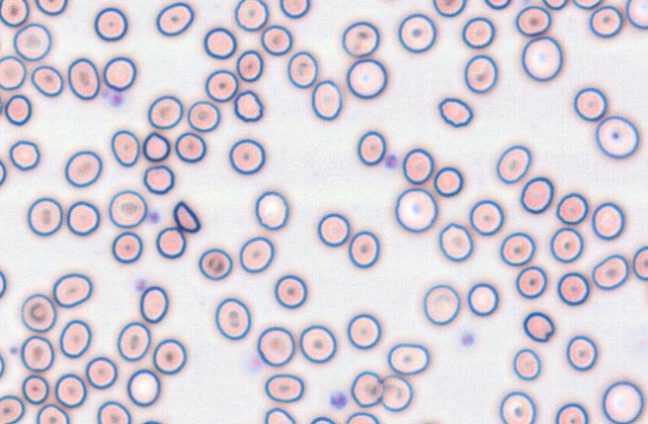PLT: (328, 391, 348, 410), (385, 152, 401, 170), (459, 331, 476, 347), (109, 92, 125, 108), (149, 209, 162, 224), (133, 277, 146, 291), (9, 344, 21, 356)
RBC: (594, 115, 640, 159), (394, 187, 438, 232), (521, 35, 563, 81), (601, 380, 644, 423), (346, 58, 387, 99), (256, 326, 295, 367), (397, 12, 436, 53), (214, 297, 251, 340), (108, 189, 147, 228), (423, 284, 460, 325), (13, 22, 51, 61), (26, 197, 63, 236), (299, 324, 336, 363), (52, 272, 92, 308), (495, 144, 531, 184), (67, 57, 100, 100), (64, 150, 102, 187), (591, 253, 629, 290), (341, 20, 379, 57), (20, 293, 56, 332), (116, 321, 151, 361), (254, 190, 289, 230), (387, 342, 429, 375), (238, 235, 274, 273), (438, 222, 473, 261), (463, 54, 498, 93), (155, 1, 194, 36), (228, 138, 265, 174), (126, 368, 160, 407), (591, 201, 625, 240), (469, 199, 504, 236), (520, 176, 554, 214), (311, 79, 342, 120), (499, 231, 535, 266), (346, 313, 381, 349), (549, 227, 584, 263), (147, 94, 183, 129), (20, 335, 54, 372), (59, 319, 91, 358), (93, 6, 128, 41), (66, 200, 100, 236), (152, 338, 186, 374), (380, 374, 413, 411), (350, 370, 383, 407), (499, 390, 536, 423), (565, 334, 598, 371), (348, 230, 380, 268), (264, 373, 304, 403), (102, 56, 136, 91), (402, 147, 434, 184), (287, 50, 318, 88), (573, 87, 607, 121), (588, 5, 623, 38), (317, 212, 350, 247), (54, 373, 87, 408), (204, 69, 239, 102), (139, 285, 169, 323), (110, 129, 140, 167), (461, 16, 495, 49), (198, 247, 232, 280), (557, 271, 590, 305), (274, 274, 307, 308), (515, 5, 551, 36), (203, 26, 236, 59), (555, 192, 588, 225), (467, 282, 499, 316), (515, 265, 547, 299), (437, 97, 473, 127), (356, 130, 386, 166), (85, 356, 117, 389), (187, 100, 220, 132), (30, 65, 64, 96), (234, 0, 268, 31), (111, 231, 143, 263), (174, 131, 206, 163), (155, 226, 186, 259), (8, 139, 40, 170), (260, 24, 292, 55), (233, 89, 263, 122), (142, 164, 174, 194), (433, 166, 463, 197), (512, 348, 541, 380), (235, 49, 263, 82), (0, 55, 26, 90), (142, 131, 170, 162), (4, 94, 32, 125), (21, 374, 49, 404), (96, 400, 131, 423), (0, 0, 29, 27), (0, 394, 25, 423), (554, 402, 588, 423), (625, 0, 648, 29), (36, 403, 69, 423), (432, 0, 466, 17), (279, 0, 310, 18), (632, 245, 647, 280), (264, 407, 296, 423), (34, 0, 67, 15), (344, 411, 379, 423), (572, 0, 603, 9), (484, 0, 511, 10), (541, 0, 567, 10), (308, 415, 336, 423), (0, 268, 6, 298), (0, 157, 6, 186), (0, 352, 5, 378), (140, 419, 165, 424), (375, 0, 400, 4), (0, 93, 3, 119)
Schistocyte: (524, 311, 555, 343), (173, 201, 201, 233)
